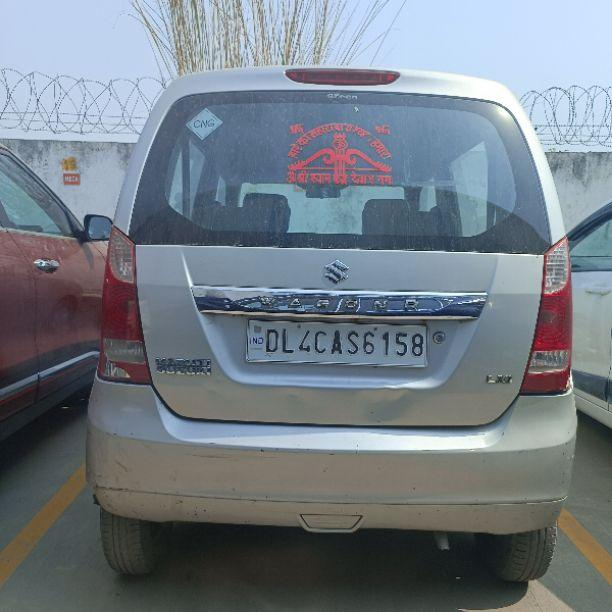license_plate: (243, 317, 429, 367)
